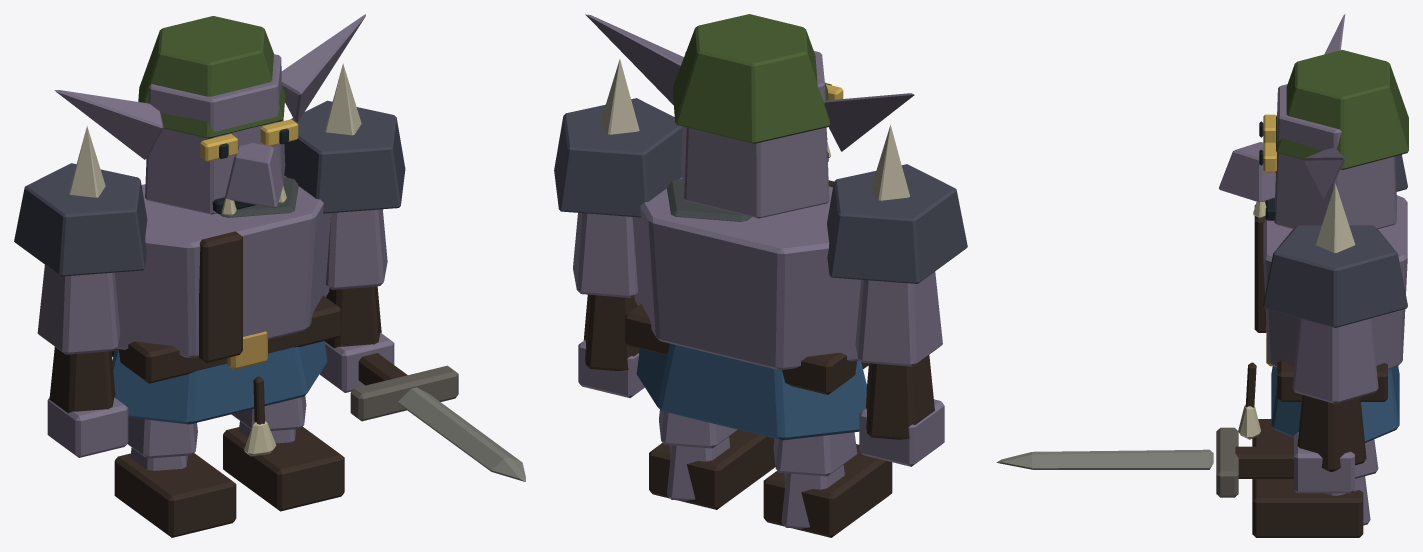
Rendered from brute.glb.
3 views of the same model, side by side, from view 1: azimuth 30°, elevation 25°; view 2: azimuth 150°, elevation 25°; view 3: azimuth 270°, elevation 25° (orthographic). The views are drawn at different scales.
Parts seen in each view (by area): view 1: head.006, torso.006, pelvis.006, shin_l.006, weapon.006, shin_r.006, forearm_l.006, upper_arm_l.006, forearm_r.006, upper_arm_r.006, thigh_l.006, thigh_r.006 (+1 smaller); view 2: head.006, torso.006, pelvis.006, forearm_l.006, shin_l.006, shin_r.006, upper_arm_l.006, forearm_r.006, upper_arm_r.006, thigh_l.006, thigh_r.006; view 3: head.006, weapon.006, torso.006, forearm_r.006, upper_arm_r.006, shin_r.006, pelvis.006, talisman.002, shin_l.006, thigh_r.006.
Part boxes in pixels (left/top/right/bottom): head.006: left=14, top=14, right=405, bottom=276; torso.006: left=115, top=176, right=331, bottom=362; pelvis.006: left=111, top=295, right=341, bottom=424; shin_l.006: left=114, top=447, right=236, bottom=537; weapon.006: left=350, top=353, right=525, bottom=481; shin_r.006: left=223, top=421, right=344, bottom=511; forearm_l.006: left=47, top=347, right=128, bottom=457; upper_arm_l.006: left=37, top=265, right=120, bottom=354; forearm_r.006: left=319, top=286, right=394, bottom=392; upper_arm_r.006: left=326, top=209, right=387, bottom=289; thigh_l.006: left=127, top=417, right=197, bottom=458; thigh_r.006: left=231, top=396, right=306, bottom=430; head.006: left=554, top=14, right=967, bottom=283; torso.006: left=632, top=177, right=861, bottom=370; pelvis.006: left=625, top=304, right=868, bottom=440; forearm_l.006: left=859, top=355, right=944, bottom=466; shin_l.006: left=763, top=444, right=892, bottom=537; shin_r.006: left=649, top=430, right=775, bottom=509; upper_arm_l.006: left=855, top=271, right=942, bottom=366; forearm_r.006: left=578, top=294, right=644, bottom=397; upper_arm_r.006: left=573, top=213, right=638, bottom=298; thigh_l.006: left=773, top=432, right=857, bottom=476; thigh_r.006: left=659, top=410, right=737, bottom=448; head.006: left=1219, top=14, right=1408, bottom=327; weapon.006: left=996, top=427, right=1293, bottom=497; torso.006: left=1254, top=195, right=1407, bottom=369; forearm_r.006: left=1294, top=395, right=1366, bottom=493; upper_arm_r.006: left=1292, top=318, right=1378, bottom=403; shin_r.006: left=1252, top=476, right=1370, bottom=537; pelvis.006: left=1266, top=326, right=1399, bottom=442; talisman.002: left=1238, top=362, right=1260, bottom=439; shin_l.006: left=1252, top=419, right=1293, bottom=446; thigh_r.006: left=1355, top=439, right=1378, bottom=478.
Size of the model in its own units: 1.47 by 1.7 by 1.49.
